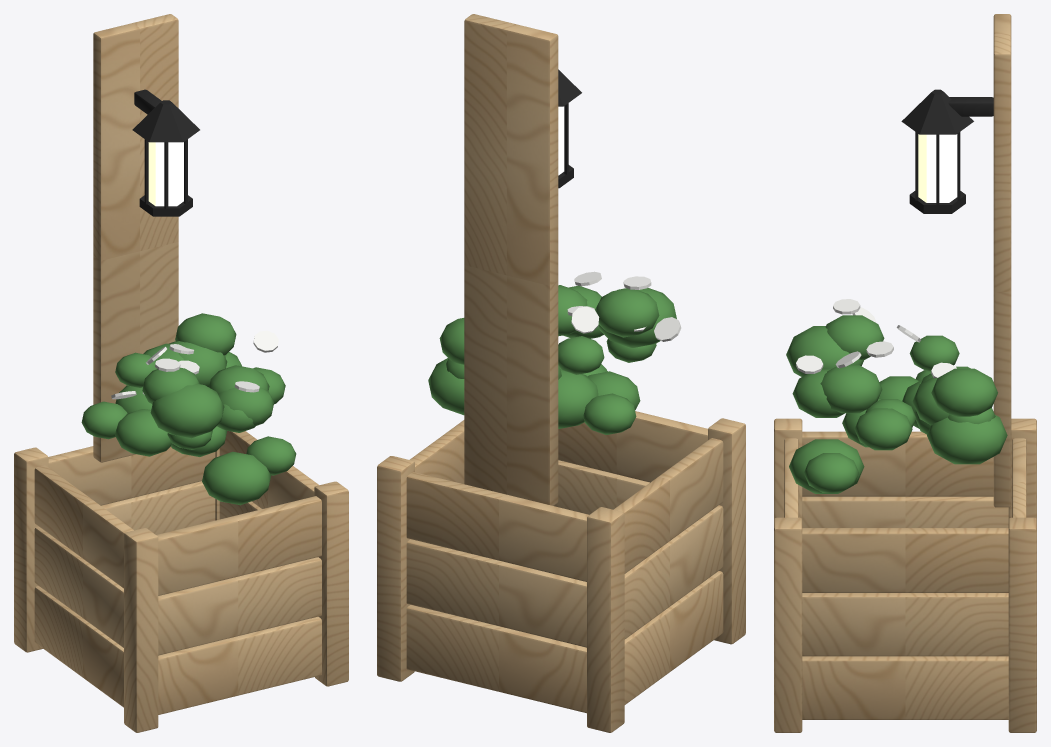
Rendered from lantern-planter.glb.
3 views of the same model, side by side, from view 1: azimuth 30°, elevation 25°; view 2: azimuth 150°, elevation 25°; view 3: azimuth 270°, elevation 25° (orthographic). The views are drawn at different scales.
Parts seen in each view (by area): view 1: Lantern post planter; view 2: Lantern post planter; view 3: Lantern post planter.
Part boxes in pixels (x1=…): Lantern post planter: x1=14, y1=14, x2=348, y2=732; Lantern post planter: x1=377, y1=14, x2=745, y2=732; Lantern post planter: x1=774, y1=14, x2=1036, y2=732.
Size of the model in its own units: 0.325 by 0.88 by 0.325.
Materials: 5 (1 with a texture image).
